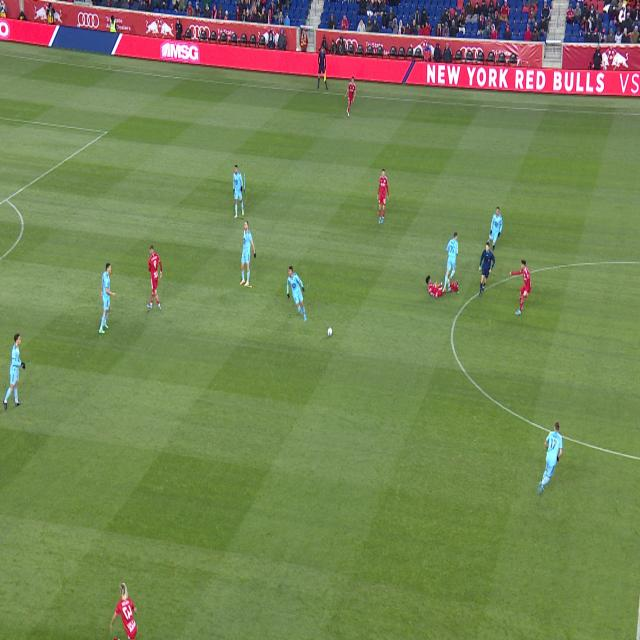football: (327, 328, 333, 336)
player: (538, 421, 563, 493), (3, 334, 25, 410), (111, 583, 137, 639), (509, 260, 531, 315), (99, 263, 116, 334), (287, 267, 307, 322), (240, 222, 256, 286), (147, 246, 162, 310), (443, 233, 458, 292), (488, 207, 503, 251), (377, 170, 389, 224), (426, 276, 453, 297), (234, 165, 244, 218), (345, 77, 356, 116)
referee: (479, 242, 495, 296)
